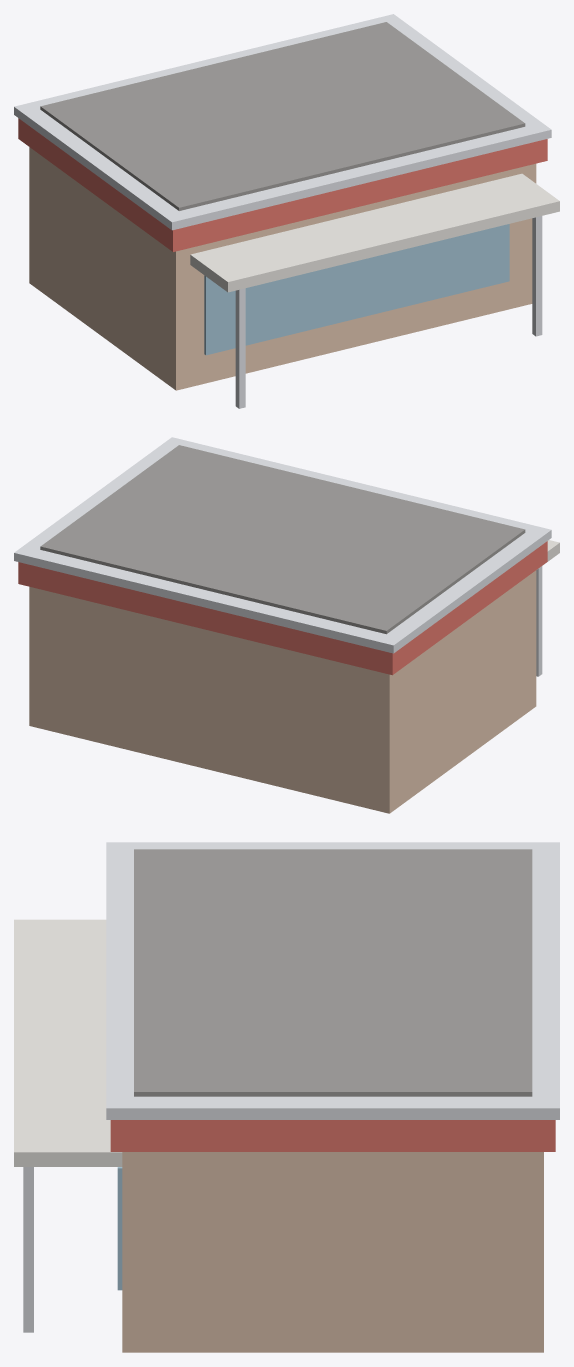
File: bldg_diner_market.glb
3 views of the same model, one above another, from view 1: azimuth 30°, elevation 25°; view 2: azimuth 150°, elevation 25°; view 3: azimuth 270°, elevation 25° (orthographic). The views are drawn at different scales.
Visible parts, largest first — view 1: bldg_diner_market; view 2: bldg_diner_market; view 3: bldg_diner_market.
Part boxes in pixels (x1,y1,x2,y2): bldg_diner_market: (14,14,559,408); bldg_diner_market: (14,437,559,813); bldg_diner_market: (14,842,559,1352).
Bounding box in the file's own units: 10.75 × 4.82 × 9.32.
